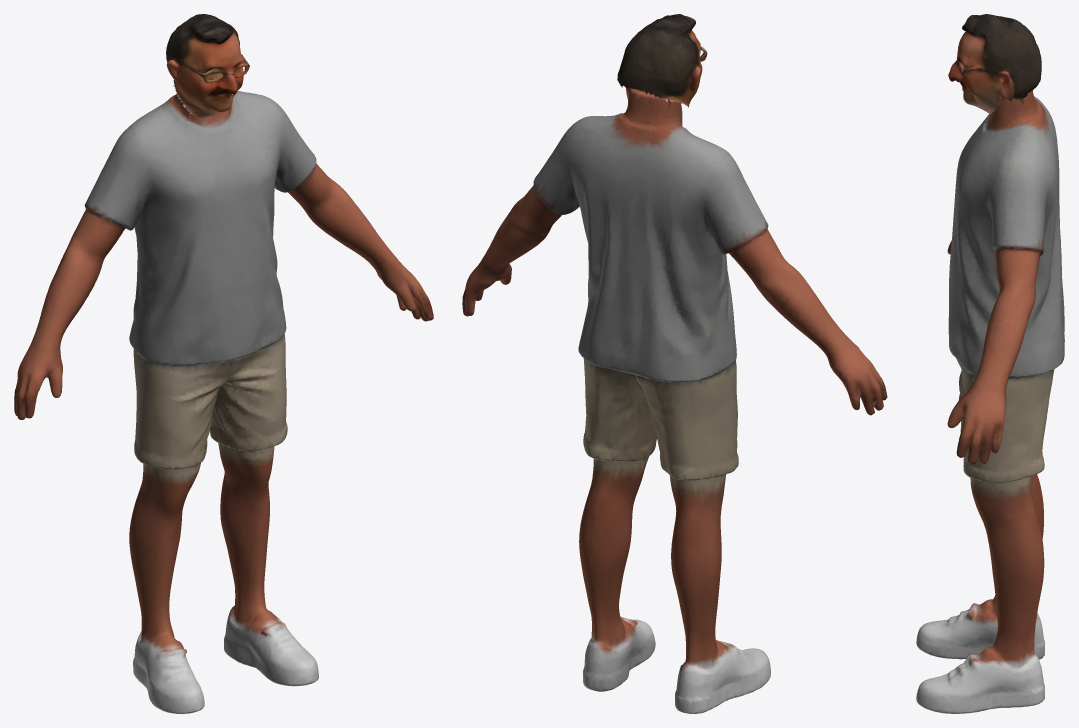
File: jackson-tshirt-shorts-straight.glb
3 renders of one model, left to right at view 1: azimuth 30°, elevation 25°; view 2: azimuth 150°, elevation 25°; view 3: azimuth 270°, elevation 25°, orthographic.
Visible parts, largest first — view 1: body_tshirt_shorts, head_neck_textured; view 2: body_tshirt_shorts, head_neck_textured; view 3: body_tshirt_shorts, head_neck_textured.
Boxes of the visible parts, box(x1,y1,x2,y2) form: body_tshirt_shorts: box(14, 91, 433, 713); head_neck_textured: box(166, 14, 249, 117); body_tshirt_shorts: box(462, 87, 887, 713); head_neck_textured: box(617, 14, 707, 107); body_tshirt_shorts: box(916, 90, 1064, 713); head_neck_textured: box(948, 14, 1041, 113).
Bounding box in the file's own units: 1.19 × 1.8 × 0.3705.
Materials: 2 (1 with a texture image).
